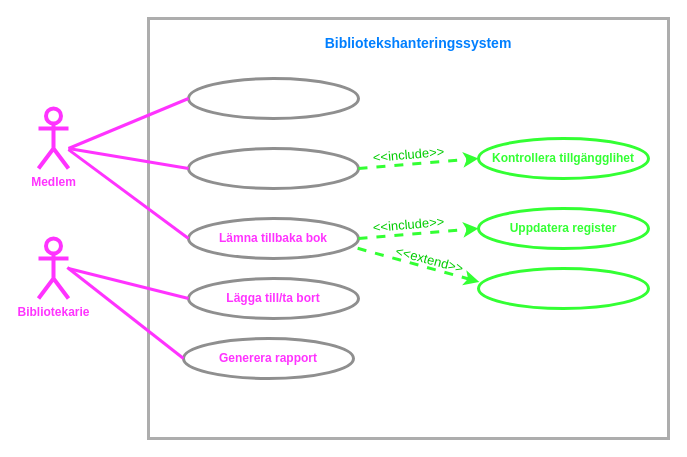
Image size: 687x457. Some labels were removed from this diagram. The centre of each missing label's shape, as x and y in pixels:
Betala förseningsavgift: the point at 563,288
Låna bok: the point at 273,168
Söka efter bok: the point at 273,98
